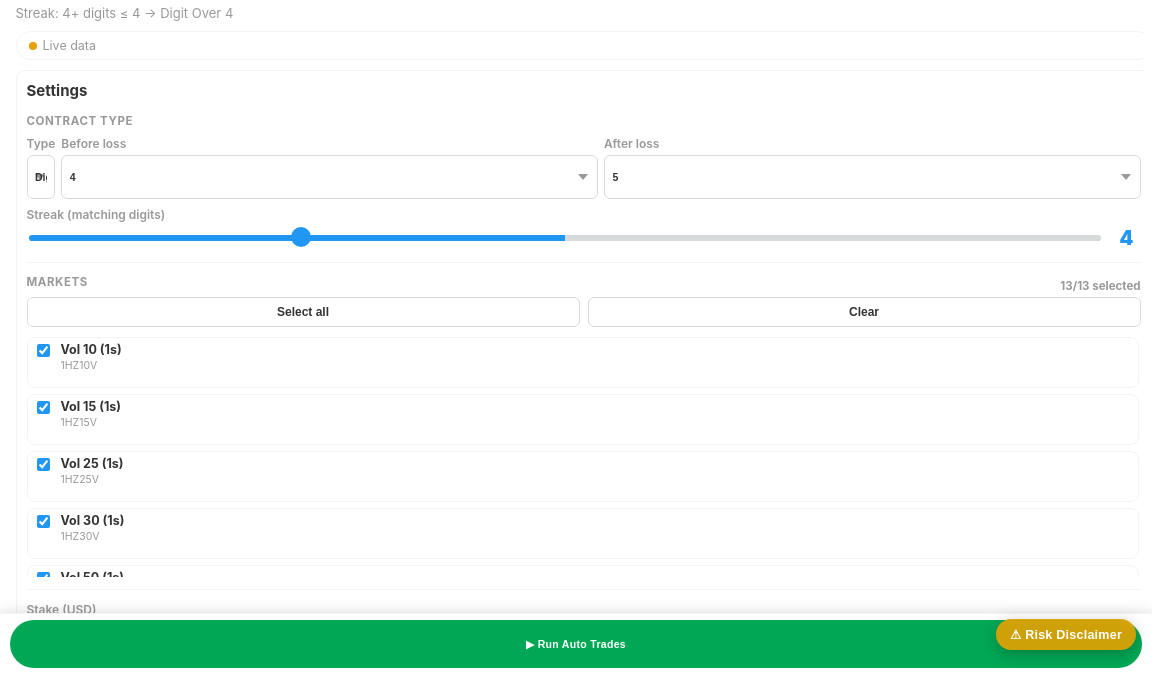
Test: <AutoTrades /> › shows add-market cards for unavailable markets
// Clear all markets first
Step 1. Click the button "Clear" → (864, 312), box [588,297,1140,327]
(page scrolled)
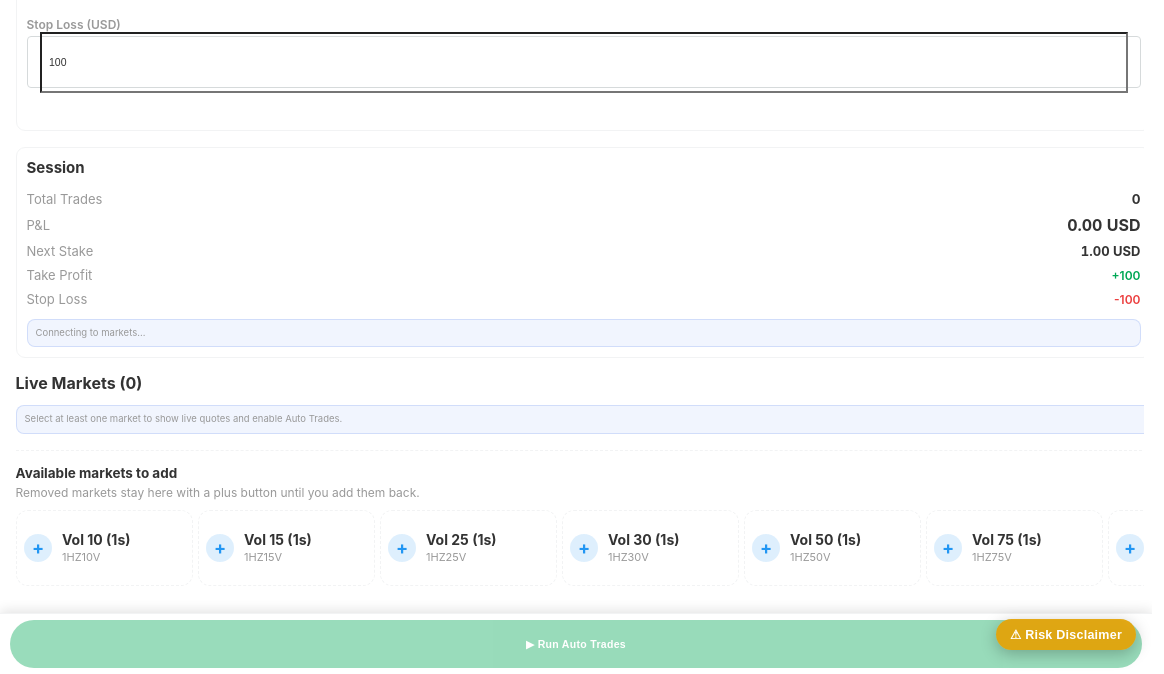
Now the number of buttons titled "Add Vol 10 (1s) to Auto Trades" is 13
// Click add on first market
Step 2. Click the button titled "Add Vol 10 (1s) to Auto Trades" → (104, 548), box [16,510,192,586]
(page scrolled)
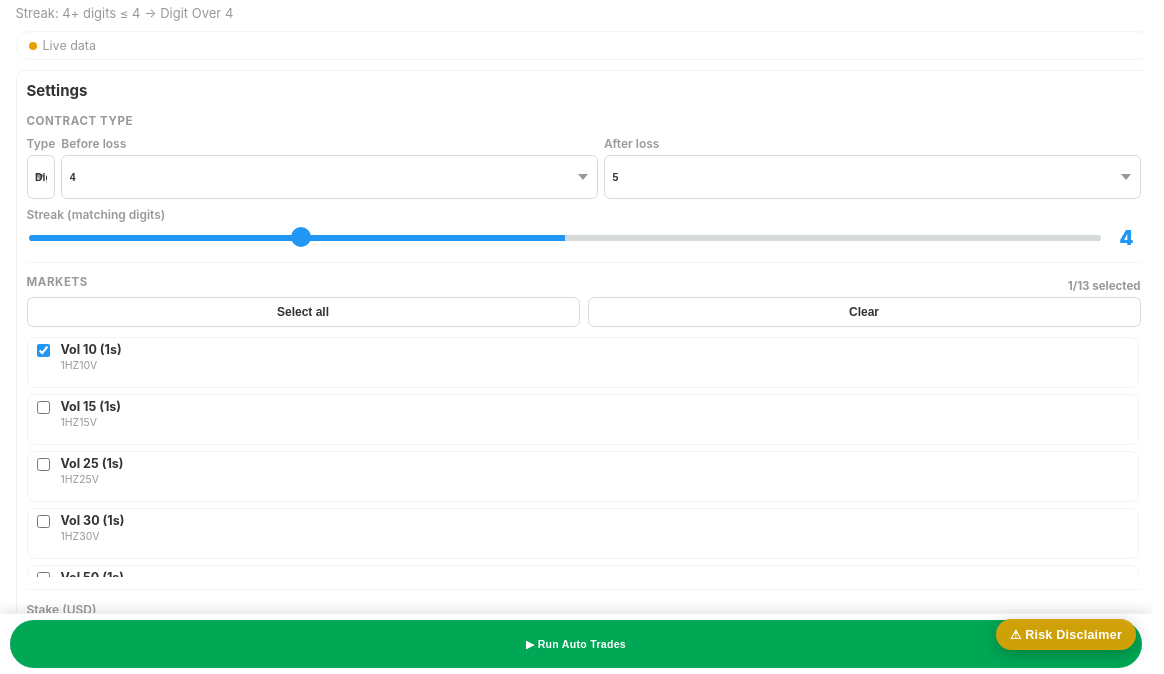
Now the text "1/13 selected" is shown, box [1068,279,1140,293]
